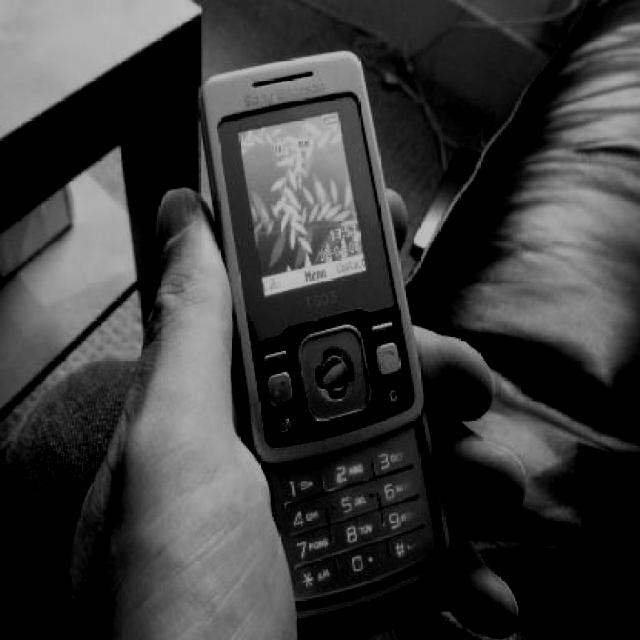fake: (202, 39, 446, 636)
